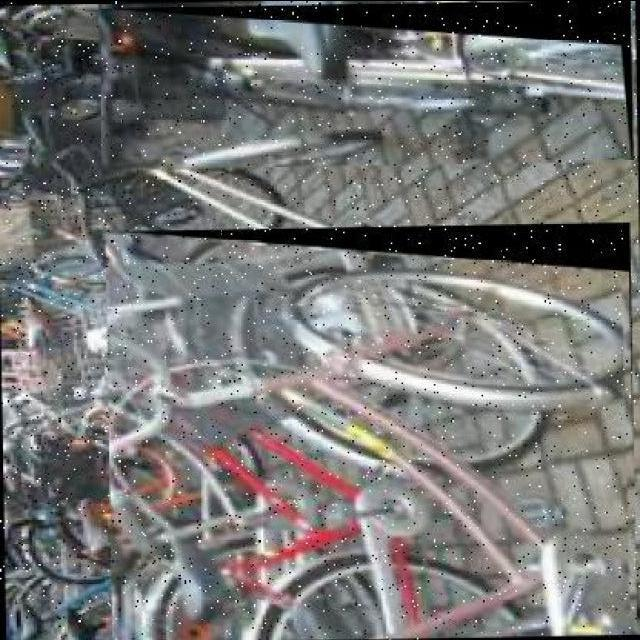bicycle: (106, 221, 640, 640), (98, 2, 636, 171)
